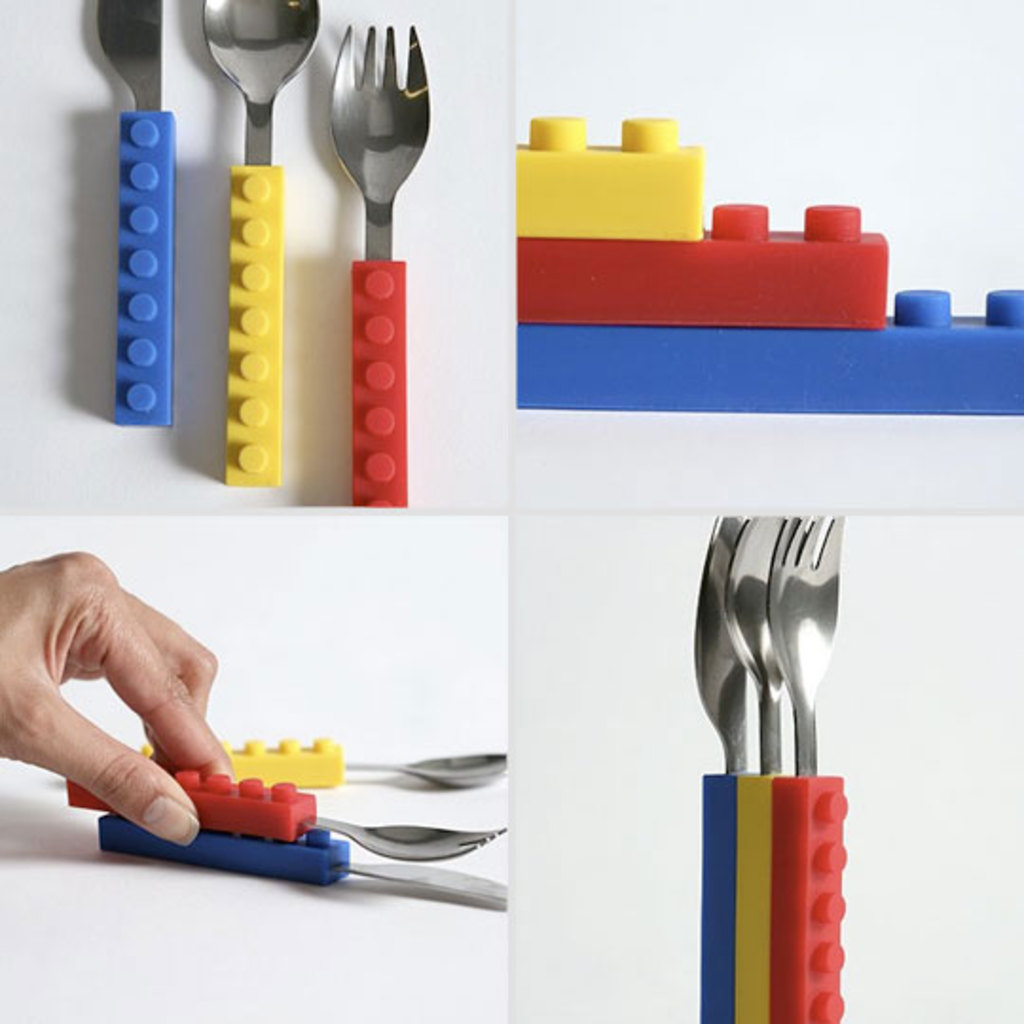fork: (328, 24, 431, 508), (61, 767, 508, 862), (766, 514, 848, 1023)
